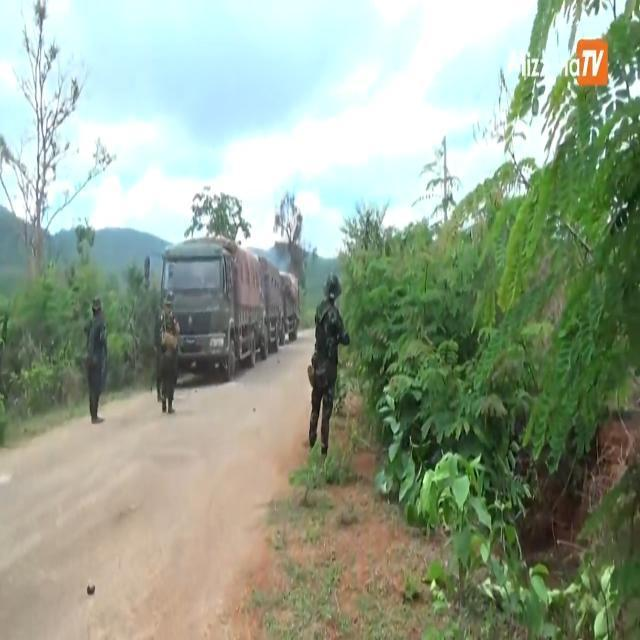MIL_Pax: (309, 276, 350, 456), (86, 298, 108, 424), (159, 291, 180, 412)
